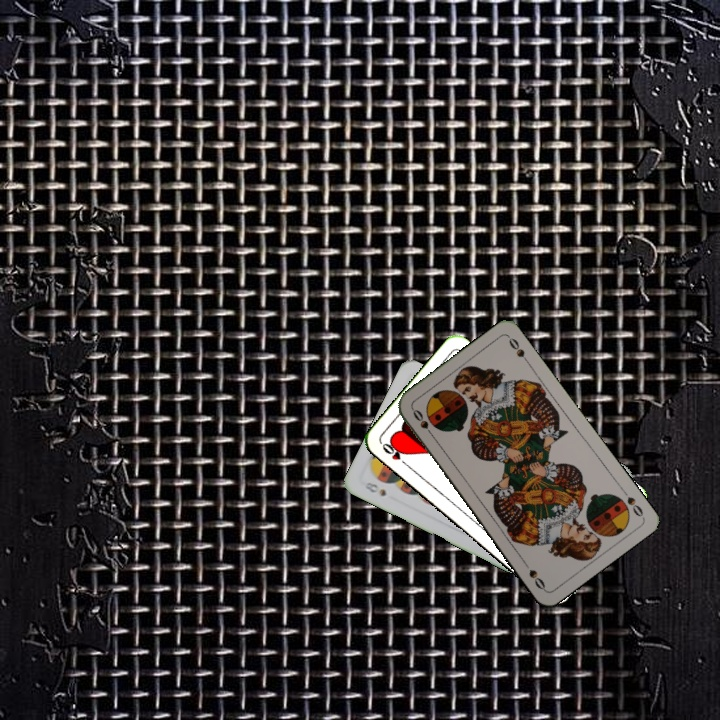HO: (378, 437, 411, 469)
S8: (360, 478, 389, 499)
SO: (408, 405, 437, 440), (617, 485, 646, 519)
